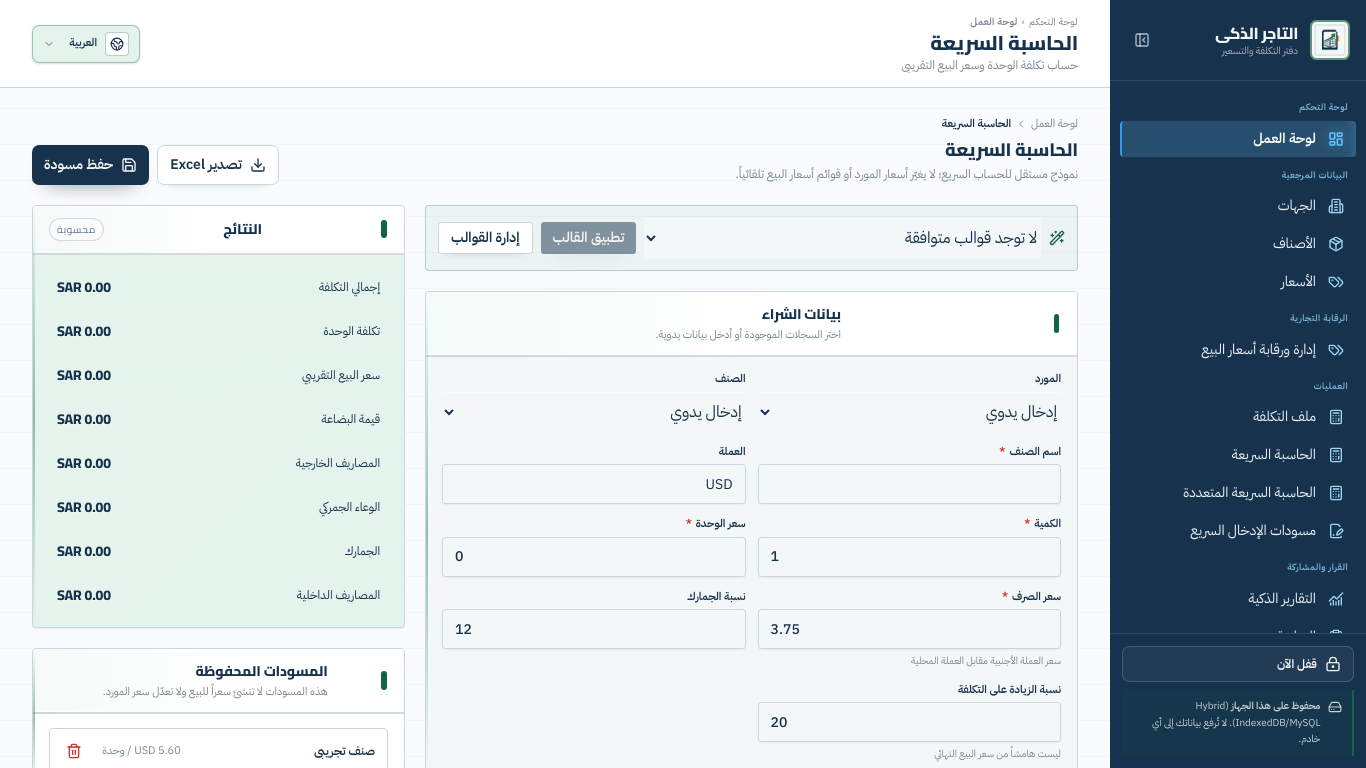
Test: حذف مسودات الحاسبة السريعة › يحذف المسودة من التخزين والقائمة بعد التأكيد
Expected: the text "صنف تجريبي" is shown, [314, 743, 375, 759]
Click the button named "حذف المسودة" at (74, 751), box [58, 735, 90, 767]
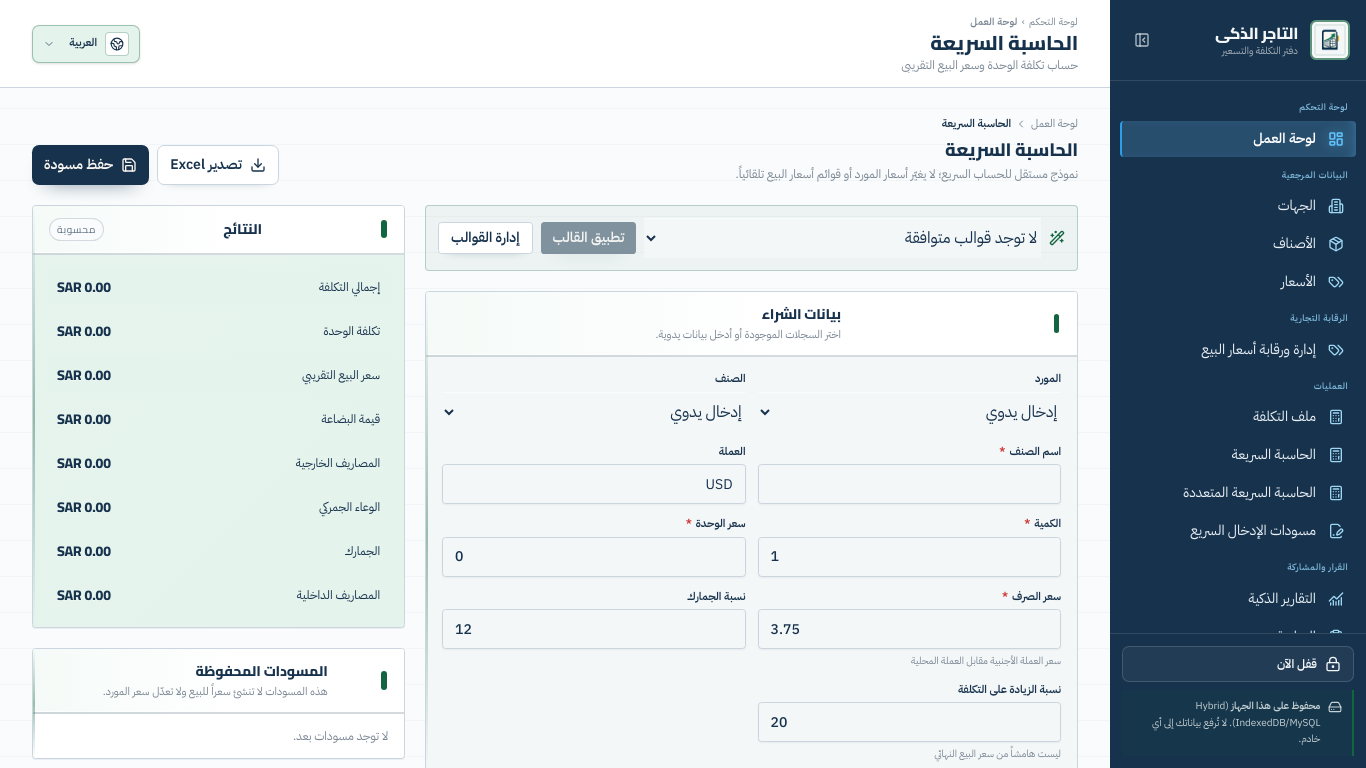
Result: the button "صنف تجريبي" is gone
